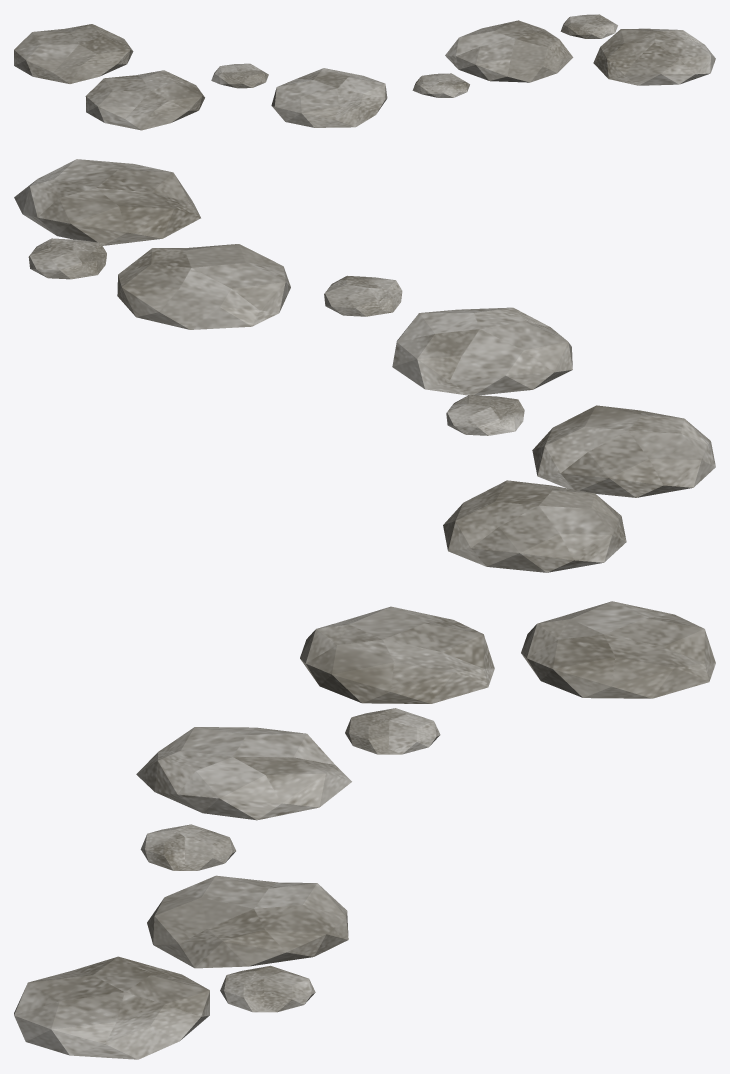
The model's file is Sentiero 1.fbx.
3 views of the same model, one above another, from view 1: azimuth 30°, elevation 25°; view 2: azimuth 150°, elevation 25°; view 3: azimuth 270°, elevation 25° (orthographic). The views are drawn at different scales.
Parts seen in each view (by area): view 1: Sentiero; view 2: Sentiero; view 3: Sentiero.
Boxes of the visible parts, x1=… form: Sentiero: x1=14, y1=14, x2=715, y2=130; Sentiero: x1=14, y1=159, x2=715, y2=572; Sentiero: x1=14, y1=601, x2=715, y2=1059.
Size of the model in its own units: 353 by 10.26 by 236.
